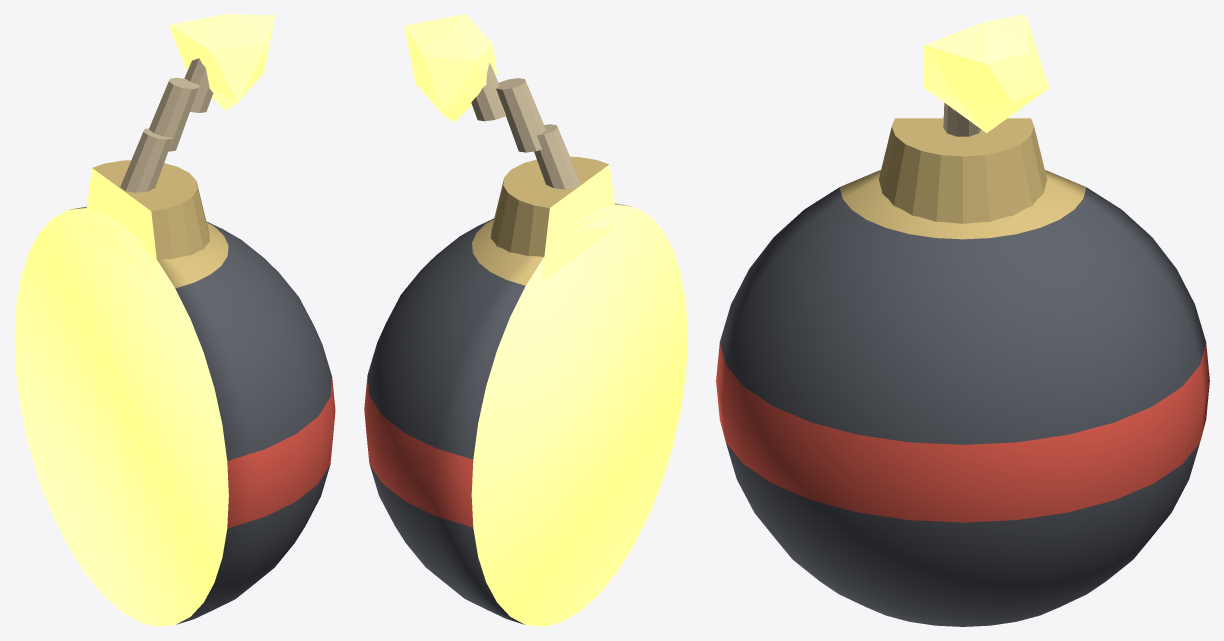
The model's file is Bomb_Half_A.fbx.
3 views of the same model, side by side, from view 1: azimuth 30°, elevation 25°; view 2: azimuth 150°, elevation 25°; view 3: azimuth 270°, elevation 25° (orthographic). The views are drawn at different scales.
Visible parts, largest first — view 1: Bomb_Half_A; view 2: Bomb_Half_A; view 3: Bomb_Half_A.
Part boxes in pixels (left/top/right/bottom): Bomb_Half_A: left=14, top=14, right=335, bottom=626; Bomb_Half_A: left=364, top=14, right=687, bottom=626; Bomb_Half_A: left=716, top=14, right=1209, bottom=626.
Size of the model in its own units: 0.52 by 1.5 by 1.04.
